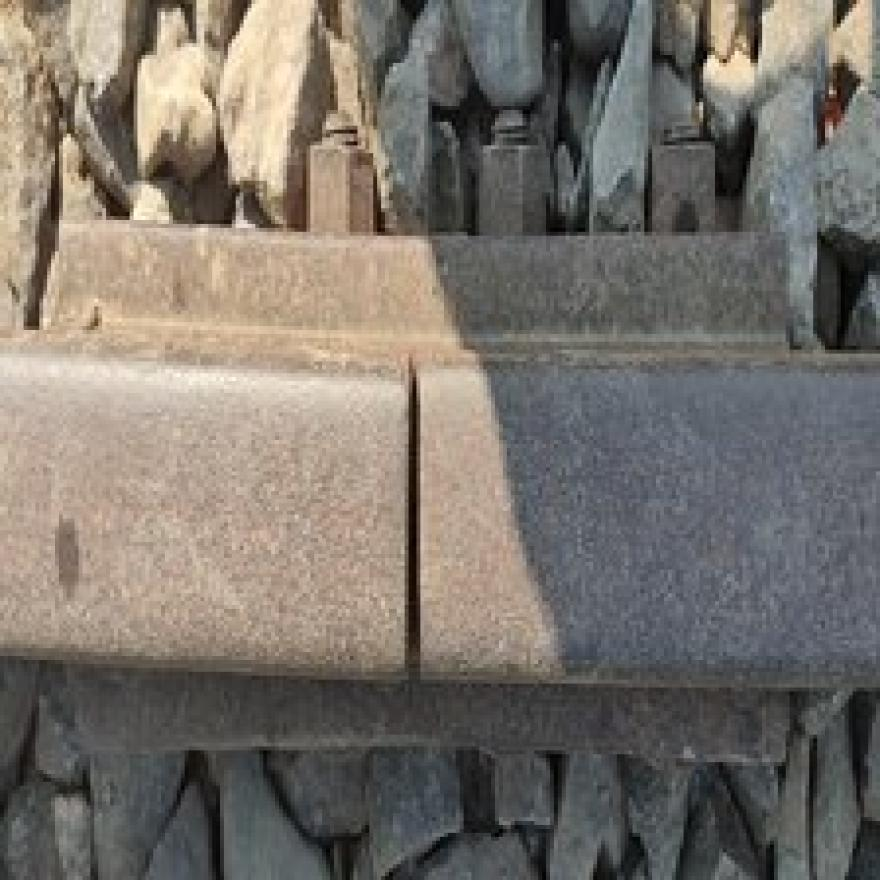railway-gap: (224, 313, 598, 724)
